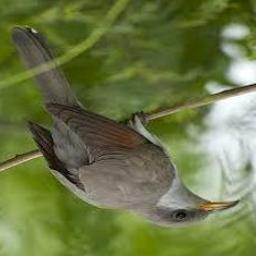Cuckoo: (11, 25, 238, 228)
